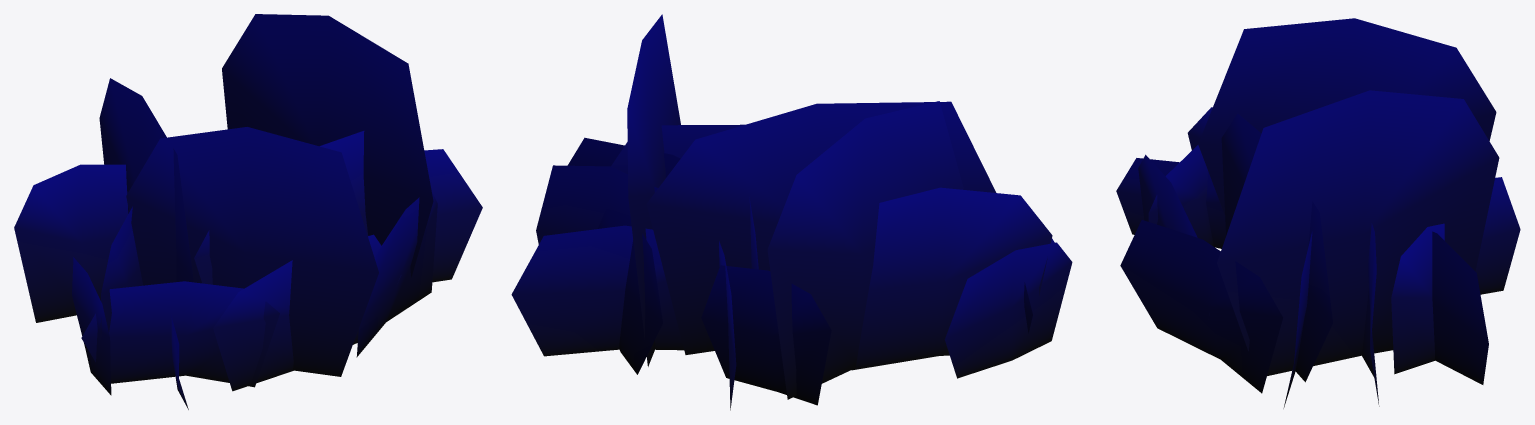
Rendered from SM_Grass_S_Patch_Md_04.fbx.
3 views of the same model, side by side, from view 1: azimuth 30°, elevation 25°; view 2: azimuth 150°, elevation 25°; view 3: azimuth 270°, elevation 25° (orthographic). The views are drawn at different scales.
Parts seen in each view (by area): view 1: SM_Grass_S_Patch_Md_04; view 2: SM_Grass_S_Patch_Md_04; view 3: SM_Grass_S_Patch_Md_04.
Boxes of the visible parts, x1,y1,x2,y2 form: SM_Grass_S_Patch_Md_04: [14, 14, 482, 409]; SM_Grass_S_Patch_Md_04: [511, 14, 1072, 410]; SM_Grass_S_Patch_Md_04: [1116, 18, 1520, 408].
Size of the model in its own units: 105 by 83.43 by 60.81.
